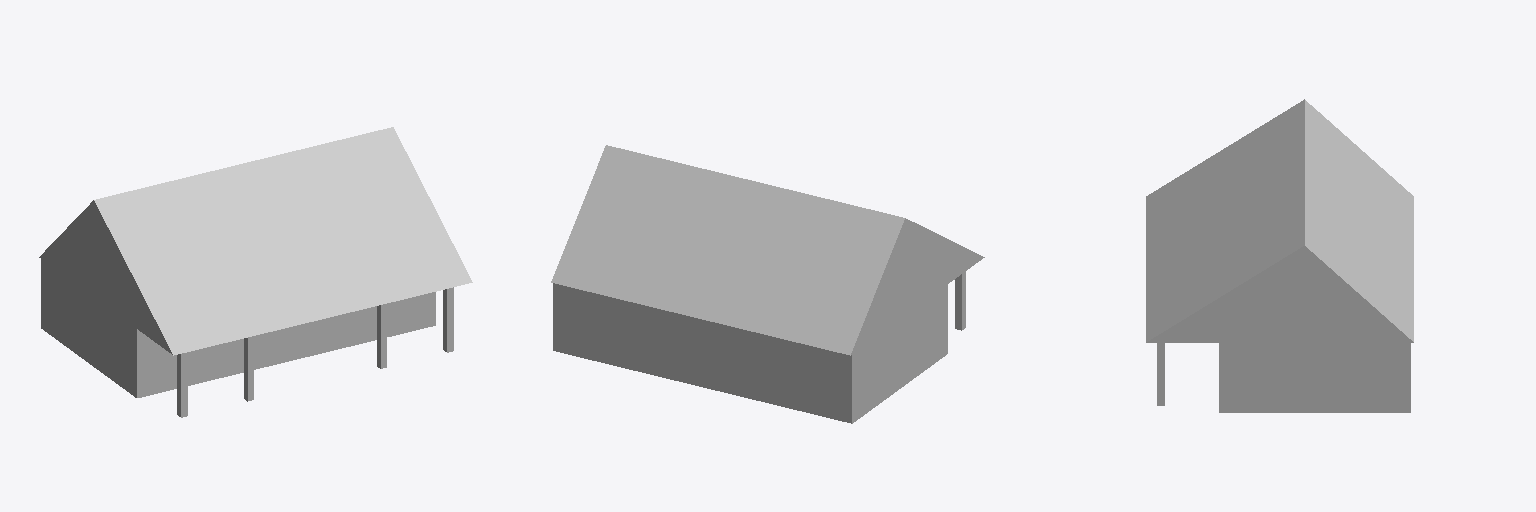
File: westernHouse.obj
The picture shows the model from 3 angles: view 1: azimuth 30°, elevation 25°; view 2: azimuth 150°, elevation 25°; view 3: azimuth 270°, elevation 25°; orthographic projection.
Visible parts, largest first — view 1: WesternHouse; view 2: WesternHouse; view 3: WesternHouse.
Boxes of the visible parts, box(x1,y1,x2,y2) form: WesternHouse: box(39, 127, 472, 417); WesternHouse: box(551, 145, 984, 423); WesternHouse: box(1146, 99, 1413, 412).
Bounding box in the file's own units: 45 × 24 × 35.